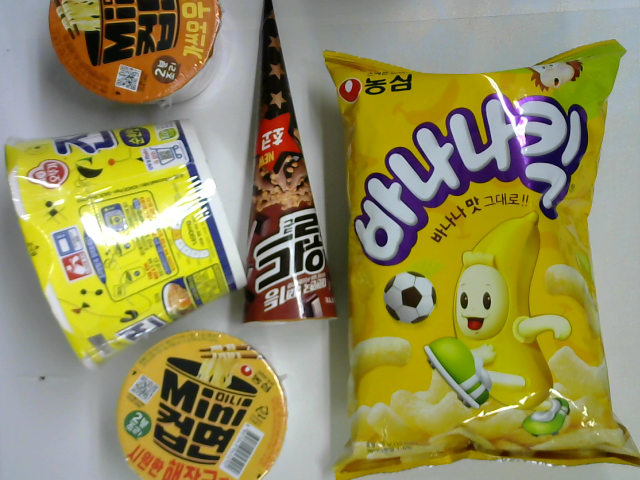Banana_Kick: (317, 35, 639, 480)
Hejangmini: (109, 326, 292, 480)
Jinlamyeon_Mild_Taste_Large_Cup: (2, 111, 252, 375)
Udongmini: (44, 1, 245, 118)
World_Cone_Choco: (227, 1, 349, 336)
